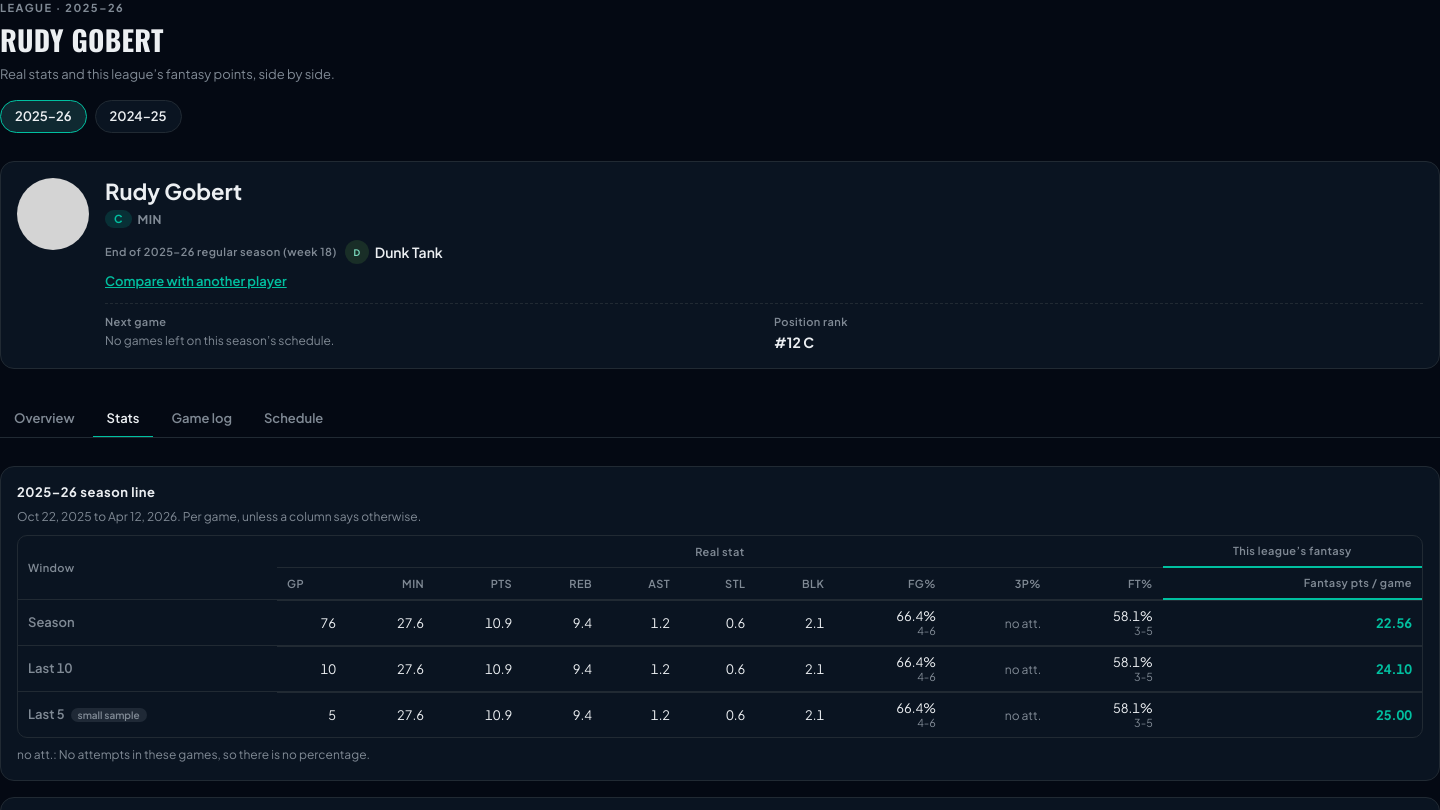
Test: PlayerPage › labels real and fantasy figures apart, and shows rank, move and group sizes
Expected: the column heading "Real stat" is shown, [277,536,1163,568]
Expected: the column heading "This league’s fantasy" is shown, [1163,536,1422,568]
Click the tab "Overview" at coordinates (44, 420), box [0,401,88,438]
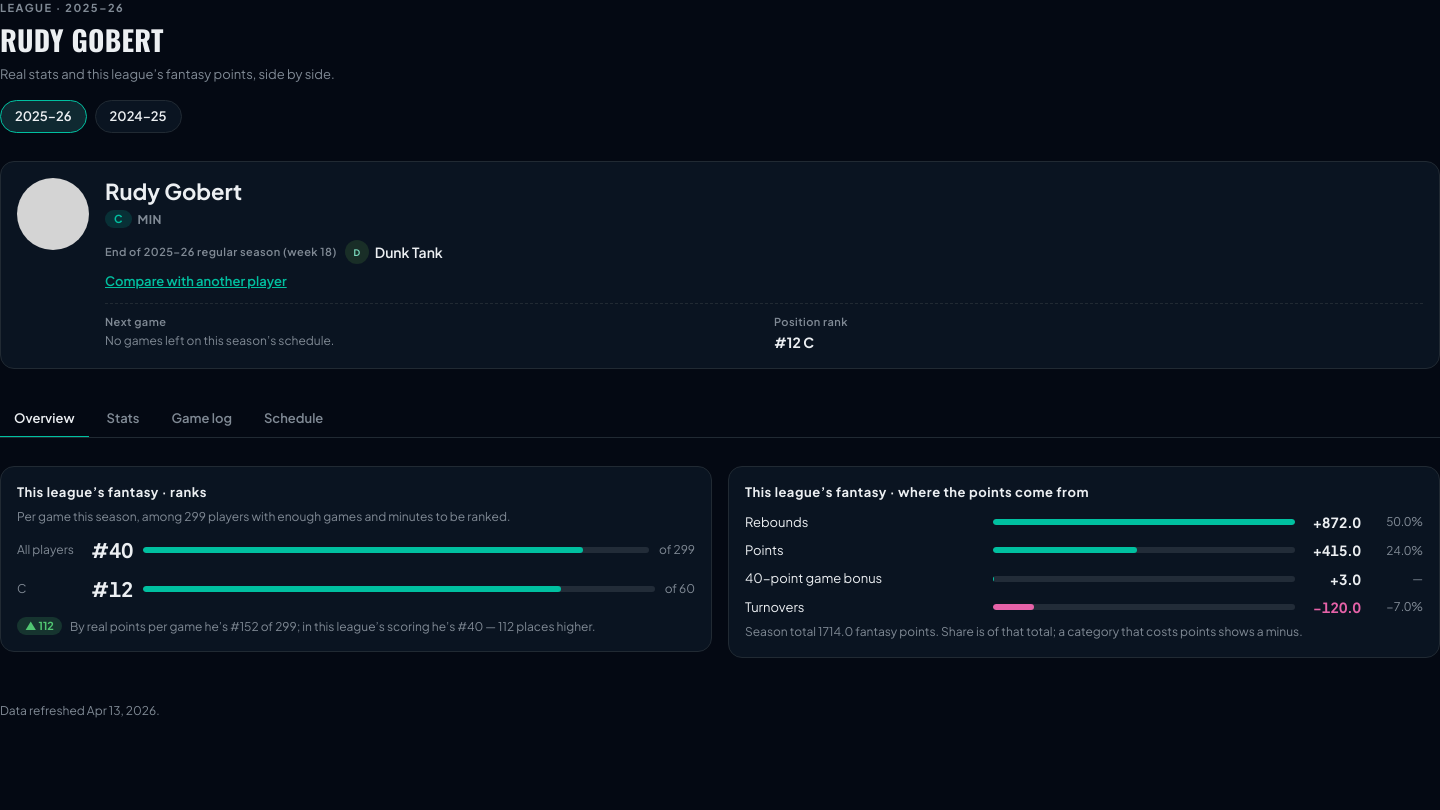
Expected: the text "#40" is shown, [91,535,133,564]
Expected: the text "of 299" is shown, [659,541,695,559]
Expected: the text "#12" is shown, [91,574,133,603]
